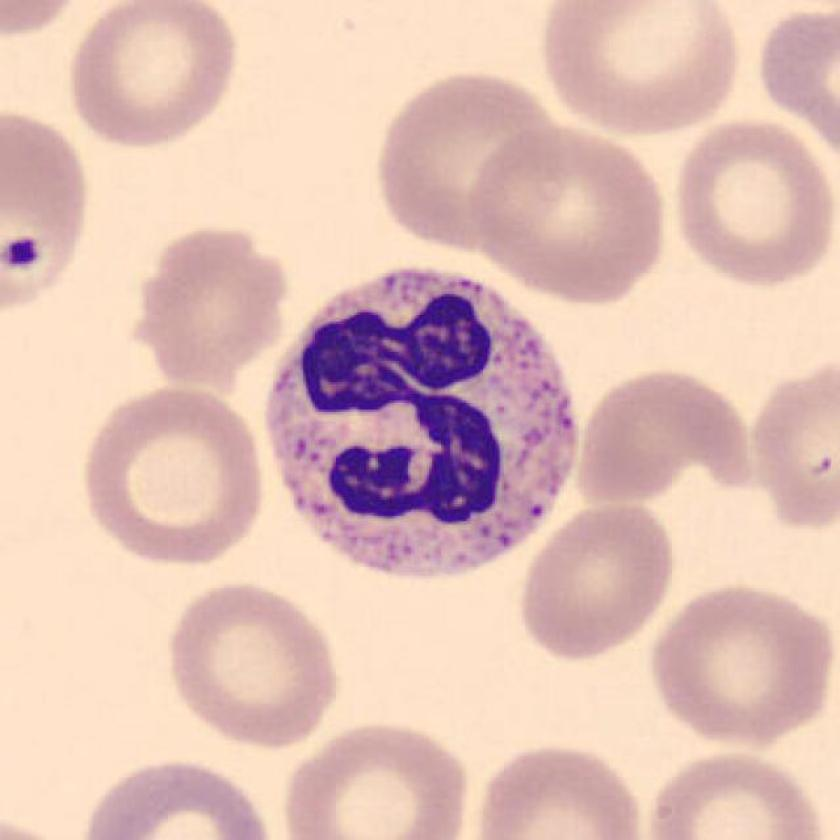neutrophil: (264, 264, 583, 581)
